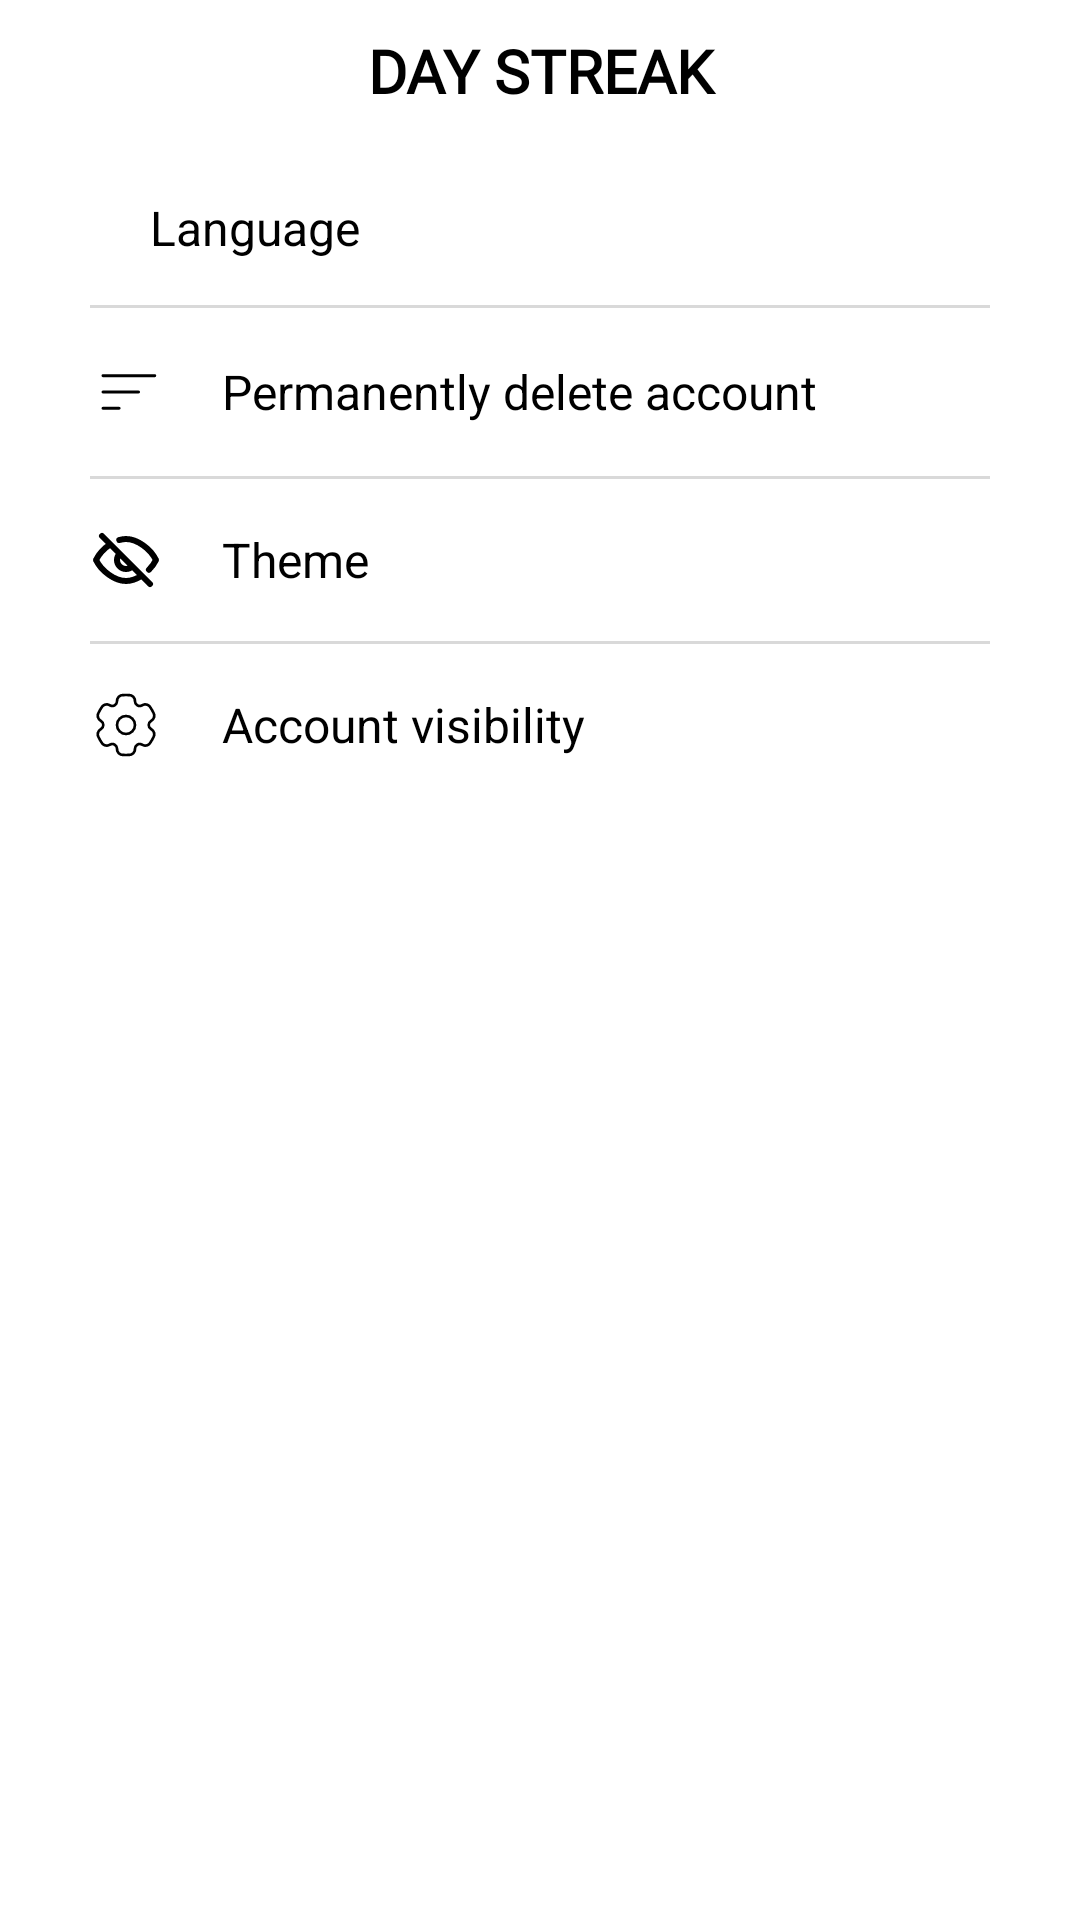

Where icons sit on this 1080 x 1920 app screen, as region(x1, y1, x2, y2):
hidden: region(93, 533, 159, 587)
list: region(101, 374, 157, 410)
settings: region(96, 693, 156, 757)
